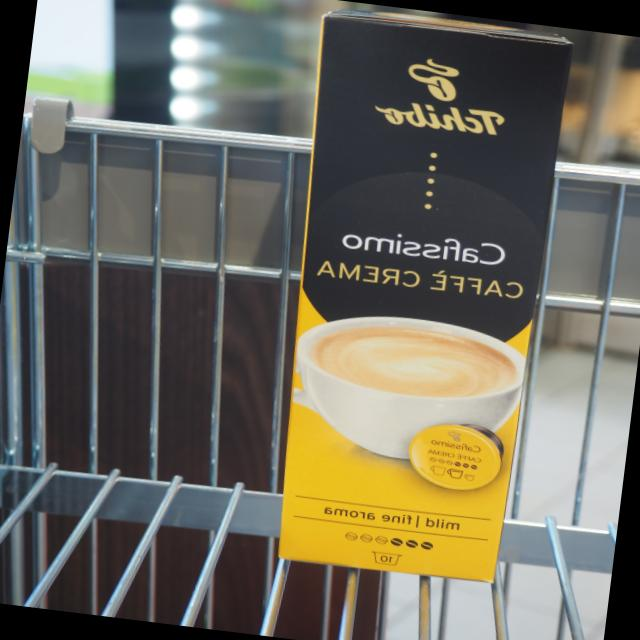Simo CCMild bigpack: (251, 7, 588, 593)
